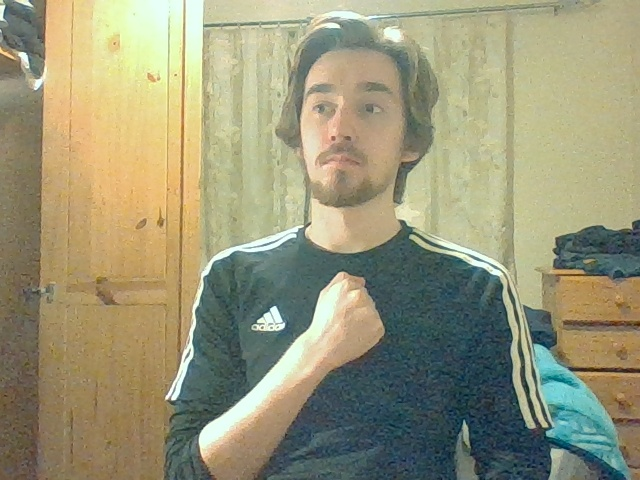my: (316, 272, 386, 363)
